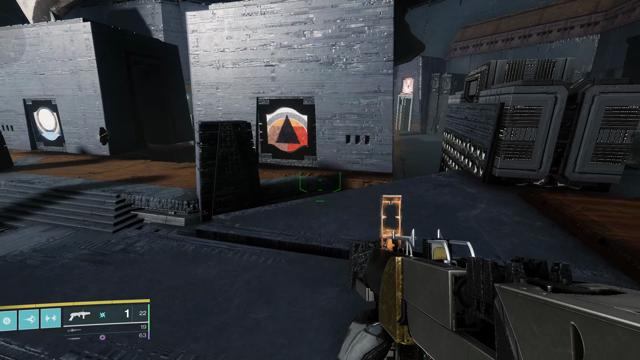pyramid: (266, 107, 308, 152)
traveler: (33, 107, 61, 141)
